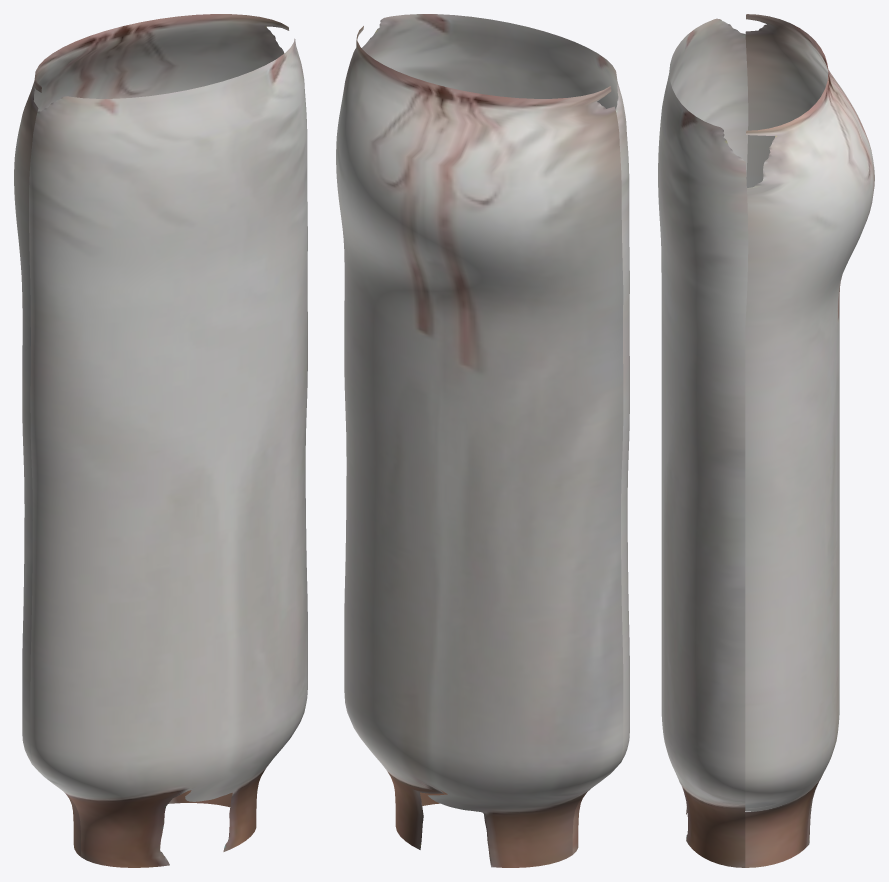
Rendered from prod-ae-ivory-satin-bias-midi.glb.
The picture shows the model from 3 angles, left to right: view 1: azimuth 30°, elevation 25°; view 2: azimuth 150°, elevation 25°; view 3: azimuth 270°, elevation 25°; orthographic projection. The views are drawn at different scales.
Visible parts, largest first — view 1: prod-ae-ivory-satin-bias-midi; view 2: prod-ae-ivory-satin-bias-midi; view 3: prod-ae-ivory-satin-bias-midi.
Boxes of the visible parts, <box> form: prod-ae-ivory-satin-bias-midi: <box>14,14,307,867</box>; prod-ae-ivory-satin-bias-midi: <box>336,14,629,867</box>; prod-ae-ivory-satin-bias-midi: <box>658,14,874,867</box>.
Bounding box in the file's own units: 0.2918 × 0.802 × 0.2088.
1 material, 1 textured.
